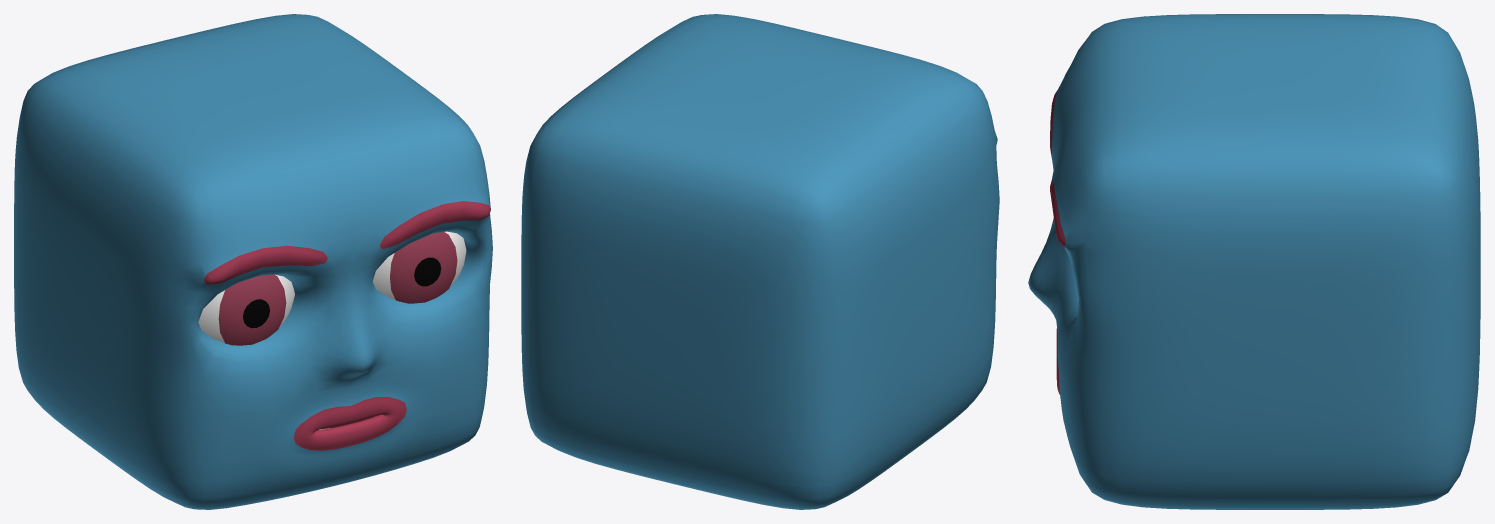
The model's file is cubehead.glb.
The picture shows the model from 3 angles, left to right: view 1: azimuth 30°, elevation 25°; view 2: azimuth 150°, elevation 25°; view 3: azimuth 270°, elevation 25°; orthographic projection. The views are drawn at different scales.
Parts seen in each view (by area): view 1: CubeFace; view 2: CubeFace; view 3: CubeFace.
Boxes of the visible parts, <box> form: CubeFace: <box>14,14,492,509</box>; CubeFace: <box>521,14,999,509</box>; CubeFace: <box>1028,14,1480,509</box>.
Bounding box in the file's own units: 0.9995 × 0.9995 × 1.07.
